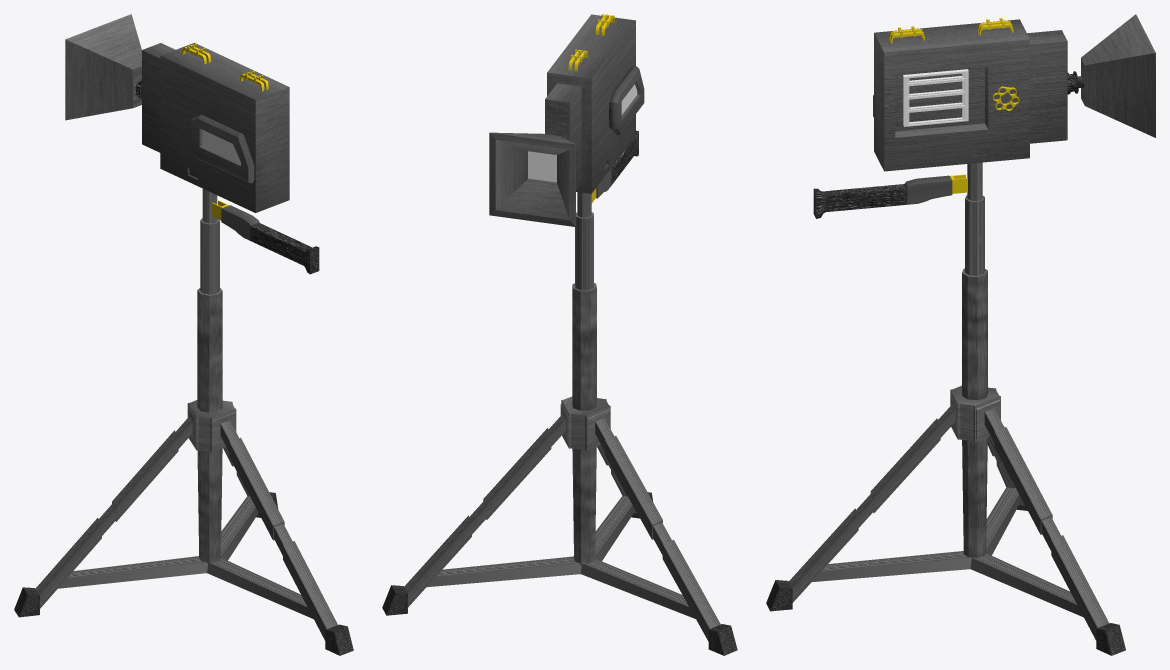
File: tripie1.obj
3 renders of one model, left to right at view 1: azimuth 30°, elevation 25°; view 2: azimuth 150°, elevation 25°; view 3: azimuth 270°, elevation 25°, orthographic. The views are drawn at different scales.
Visible parts, largest first — view 1: pasted__videocamara11 group polySurface76, pasted__videocamara11 group polySurface59, pasted__videocamara11 group polySurface52, pasted__videocamara11 group polySurface78, pasted__videocamara11 group polySurface41, pasted__videocamara11 group polySurface13, pasted__videocamara11 group polySurface65, pasted__videocamara11 group polySurface53, pasted__videocamara11 group polySurface20; view 2: pasted__videocamara11 group polySurface59, pasted__videocamara11 group polySurface76, pasted__videocamara11 group polySurface52, pasted__videocamara11 group polySurface41, pasted__videocamara11 group polySurface74, pasted__videocamara11 group polySurface77, pasted__videocamara11 group polySurface55, pasted__videocamara11 group polySurface35, pasted__videocamara11 group polySurface13, pasted__videocamara11 group polySurface20, pasted__videocamara11 group polySurface2, pasted__videocamara11 group polySurface4; view 3: pasted__videocamara11 group polySurface76, pasted__videocamara11 group polySurface59, pasted__videocamara11 group polySurface52, pasted__videocamara11 group polySurface78, pasted__videocamara11 group polySurface13, pasted__videocamara11 group polySurface23, pasted__videocamara11 group polySurface65, pasted__videocamara11 group polySurface2, pasted__videocamara11 group polySurface53.
Boxes of the visible parts, <box> form: pasted__videocamara11 group polySurface76: <box>142,42,289,212</box>; pasted__videocamara11 group polySurface59: <box>35,400,337,640</box>; pasted__videocamara11 group polySurface52: <box>197,189,222,563</box>; pasted__videocamara11 group polySurface78: <box>68,15,141,119</box>; pasted__videocamara11 group polySurface41: <box>190,115,254,183</box>; pasted__videocamara11 group polySurface13: <box>221,205,319,274</box>; pasted__videocamara11 group polySurface65: <box>100,17,141,105</box>; pasted__videocamara11 group polySurface53: <box>325,624,353,655</box>; pasted__videocamara11 group polySurface20: <box>14,587,39,617</box>; pasted__videocamara11 group polySurface59: <box>404,396,720,641</box>; pasted__videocamara11 group polySurface76: <box>545,14,635,193</box>; pasted__videocamara11 group polySurface52: <box>572,192,596,565</box>; pasted__videocamara11 group polySurface41: <box>609,66,644,135</box>; pasted__videocamara11 group polySurface74: <box>497,140,526,207</box>; pasted__videocamara11 group polySurface77: <box>499,179,542,214</box>; pasted__videocamara11 group polySurface55: <box>533,182,568,217</box>; pasted__videocamara11 group polySurface35: <box>532,138,575,226</box>; pasted__videocamara11 group polySurface13: <box>596,130,638,198</box>; pasted__videocamara11 group polySurface20: <box>708,624,737,655</box>; pasted__videocamara11 group polySurface2: <box>382,585,407,615</box>; pasted__videocamara11 group polySurface4: <box>557,150,568,217</box>; pasted__videocamara11 group polySurface76: <box>874,19,1067,171</box>; pasted__videocamara11 group polySurface59: <box>789,385,1109,640</box>; pasted__videocamara11 group polySurface52: <box>962,162,987,557</box>; pasted__videocamara11 group polySurface78: <box>1081,16,1154,136</box>; pasted__videocamara11 group polySurface13: <box>813,175,952,218</box>; pasted__videocamara11 group polySurface23: <box>903,69,968,126</box>; pasted__videocamara11 group polySurface65: <box>1083,34,1151,104</box>; pasted__videocamara11 group polySurface2: <box>1096,623,1125,655</box>; pasted__videocamara11 group polySurface53: <box>766,580,792,611</box>.
Bounding box in the file's own units: 1.69 × 2.85 × 1.78.
17 materials, 16 textured.
